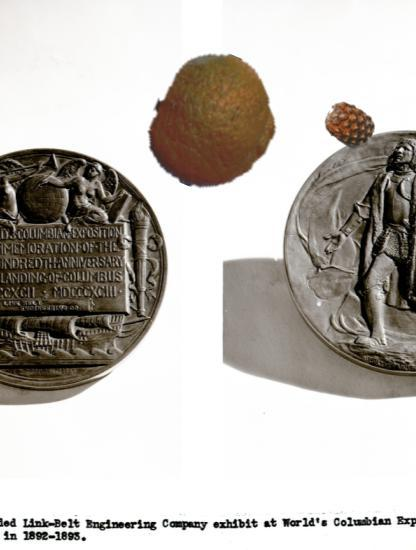Mandarine: (145, 53, 284, 192)
Pineapple: (324, 99, 376, 151)
